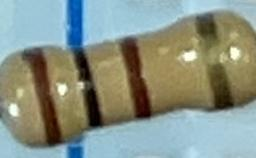Black: (68, 45, 107, 129)
Brown: (20, 46, 65, 149), (118, 34, 155, 121)
Side-Gold: (193, 11, 235, 112)
